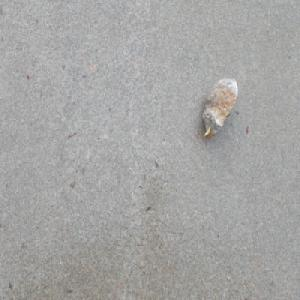Rock: (201, 76, 239, 140)
